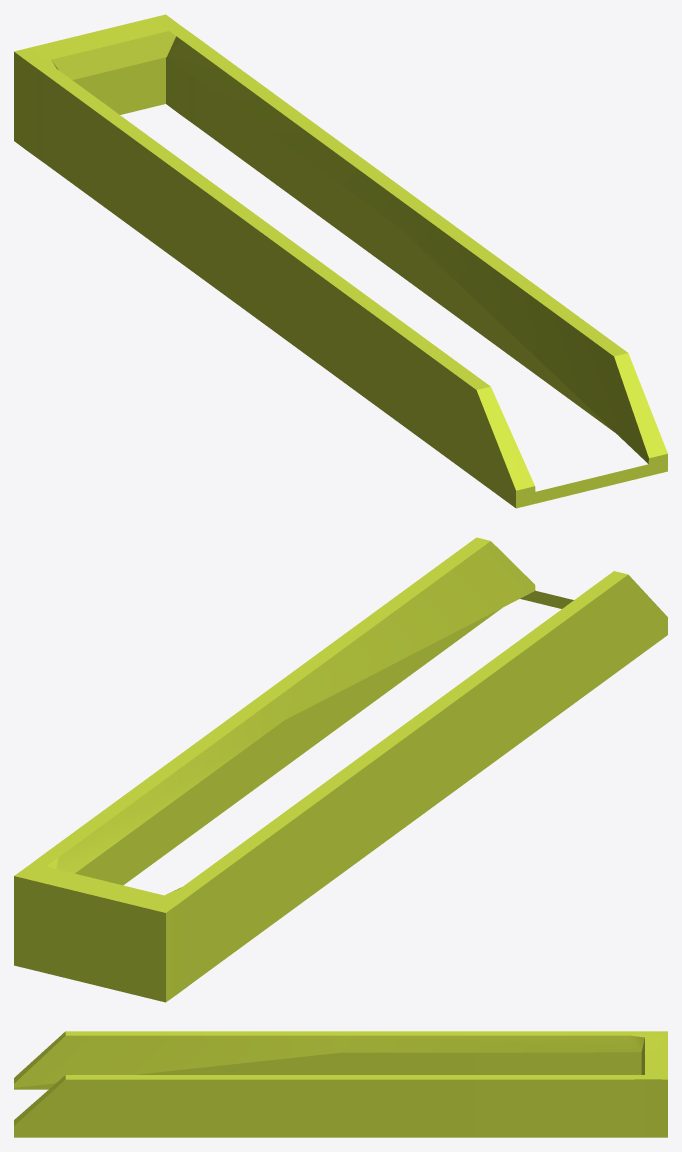
The model's file is FactoryPipeline.003.fbx.
3 renders of one model, top to bottom at view 1: azimuth 30°, elevation 25°; view 2: azimuth 150°, elevation 25°; view 3: azimuth 270°, elevation 25°, orthographic. The views are drawn at different scales.
Visible parts, largest first — view 1: FactoryPipeline.003; view 2: FactoryPipeline.003; view 3: FactoryPipeline.003.
Boxes of the visible parts, x1,y1,x2,y2 form: FactoryPipeline.003: (14, 14, 667, 508); FactoryPipeline.003: (14, 537, 667, 1002); FactoryPipeline.003: (14, 1031, 667, 1137).
Size of the model in its own units: 53.43 by 30.05 by 306.
